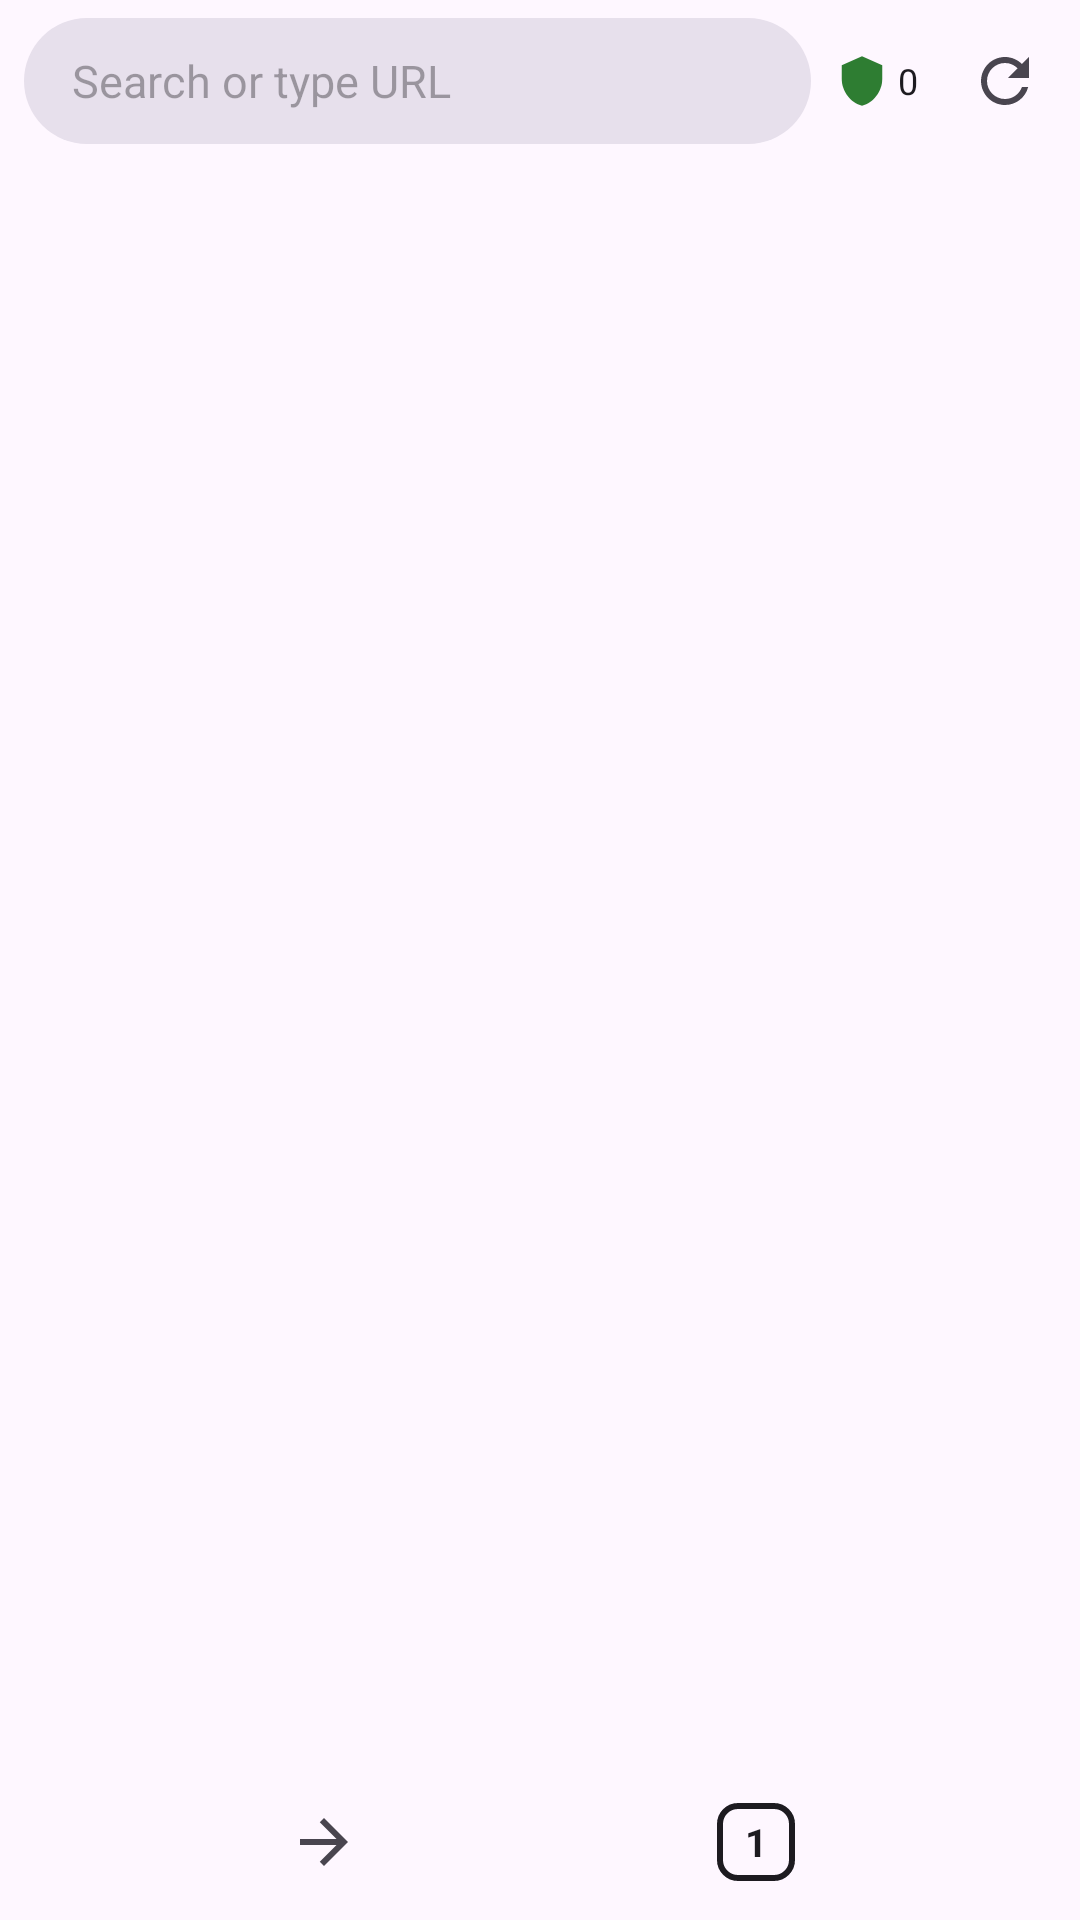

Icon click points for this 1080px x 1920px phone screenshot, format (x=x, y=y):
Forward: (x=324, y=1842)
Reload: (x=1005, y=81)
shield: (x=862, y=81)
